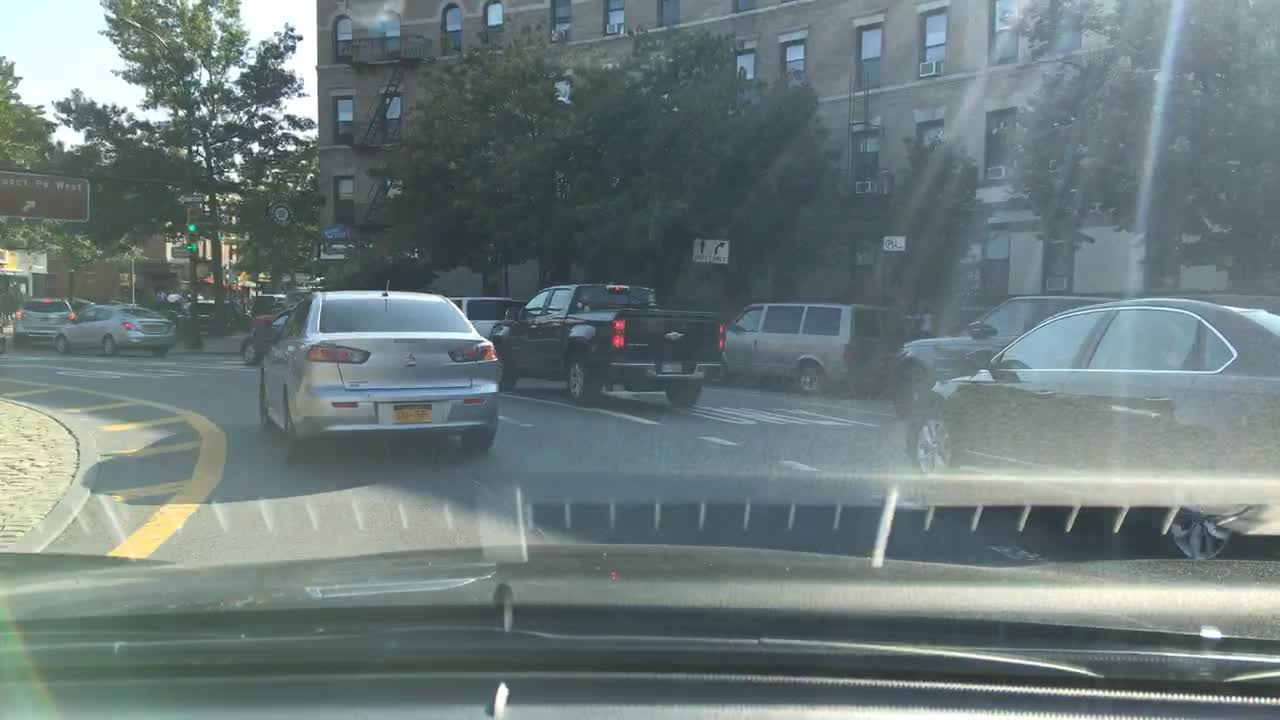car: (904, 297, 1278, 483), (253, 277, 506, 463), (886, 290, 1122, 418), (706, 297, 903, 399), (50, 300, 178, 357), (446, 292, 521, 339), (11, 295, 75, 348), (239, 306, 295, 366), (173, 298, 253, 336), (237, 303, 291, 331), (198, 269, 243, 291), (253, 292, 286, 309), (68, 296, 97, 315), (0, 311, 11, 354), (184, 292, 206, 302)
traffic light: (184, 206, 201, 232), (186, 232, 198, 253)
traffic sign: (690, 236, 730, 264), (881, 235, 907, 250), (177, 192, 203, 205), (170, 247, 189, 258), (236, 268, 247, 281)
truck: (487, 276, 728, 413)
